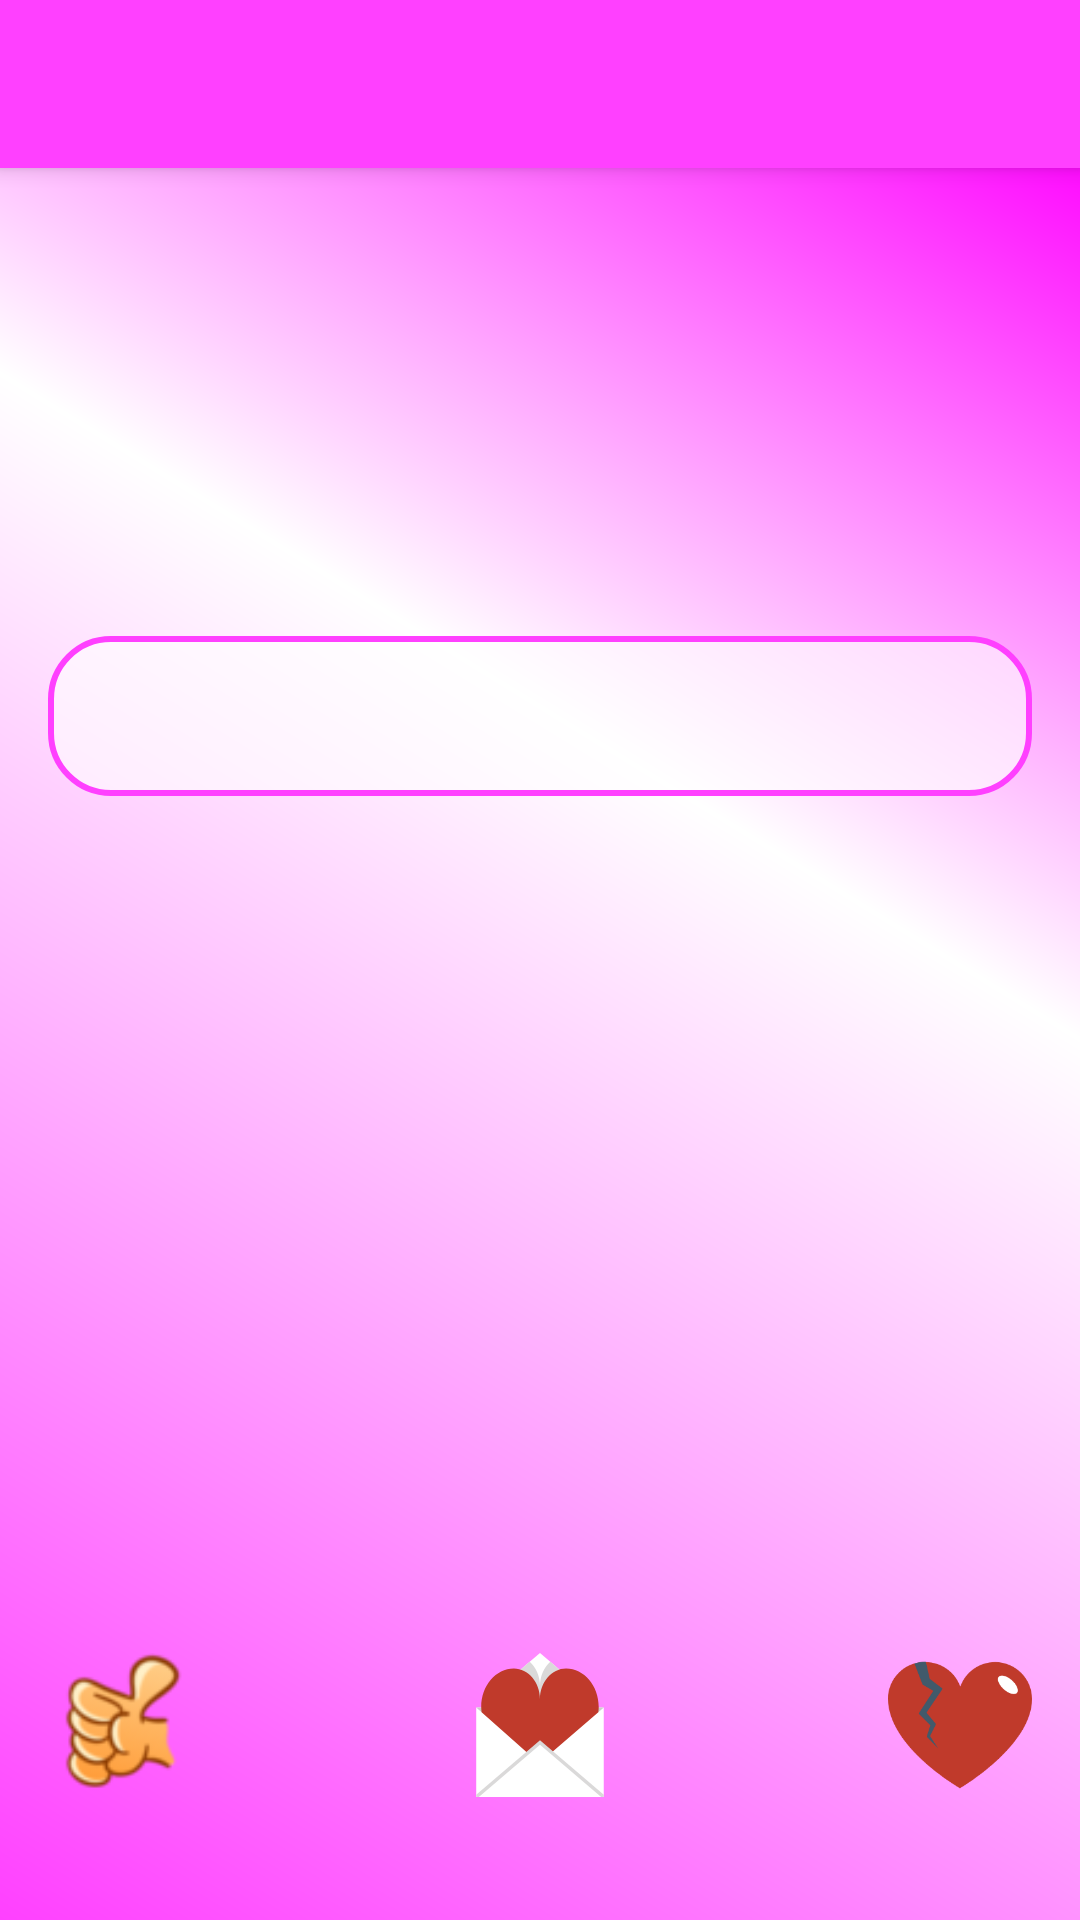

Locate icon controls on the screen. Image size 1080×1920, boxes as {"left": x1, "top": y1, "right": x2, "bottom": y2}.
Hate compliment: {"left": 888, "top": 1661, "right": 1032, "bottom": 1789}
Like compliment: {"left": 65, "top": 1654, "right": 181, "bottom": 1788}
SMS: {"left": 468, "top": 1653, "right": 604, "bottom": 1797}
